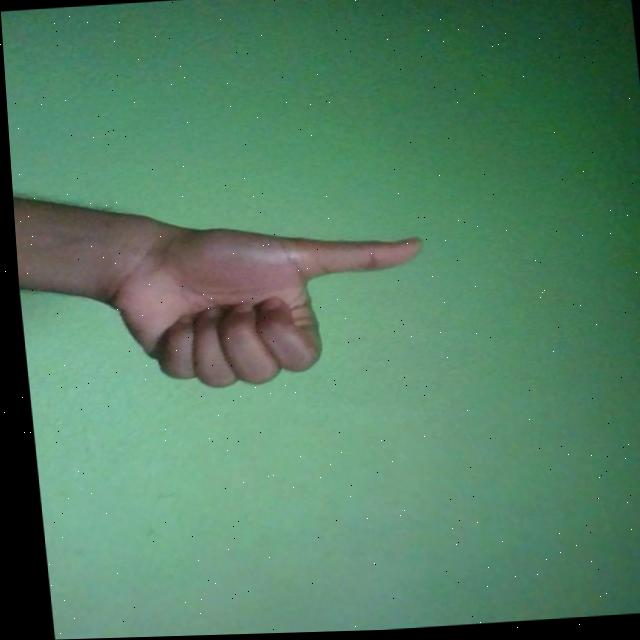Good Job: (91, 216, 427, 396)
